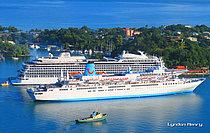Ship: (32, 59, 210, 104)
